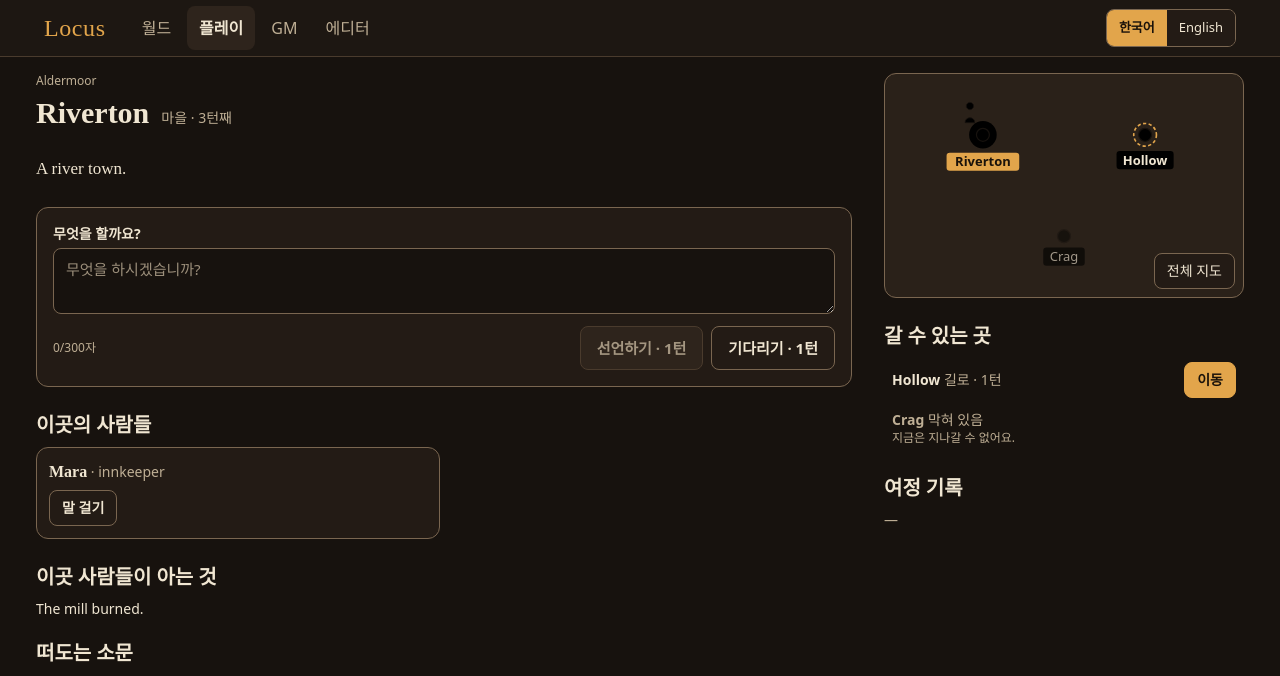
it: code review 01: the talk and focus › #19: the people's counts are read again after a turn, and a line that lands after closing counts
Click the button with test id "npc-n1-talk-btn" at (83, 508), box [49,490,117,526]
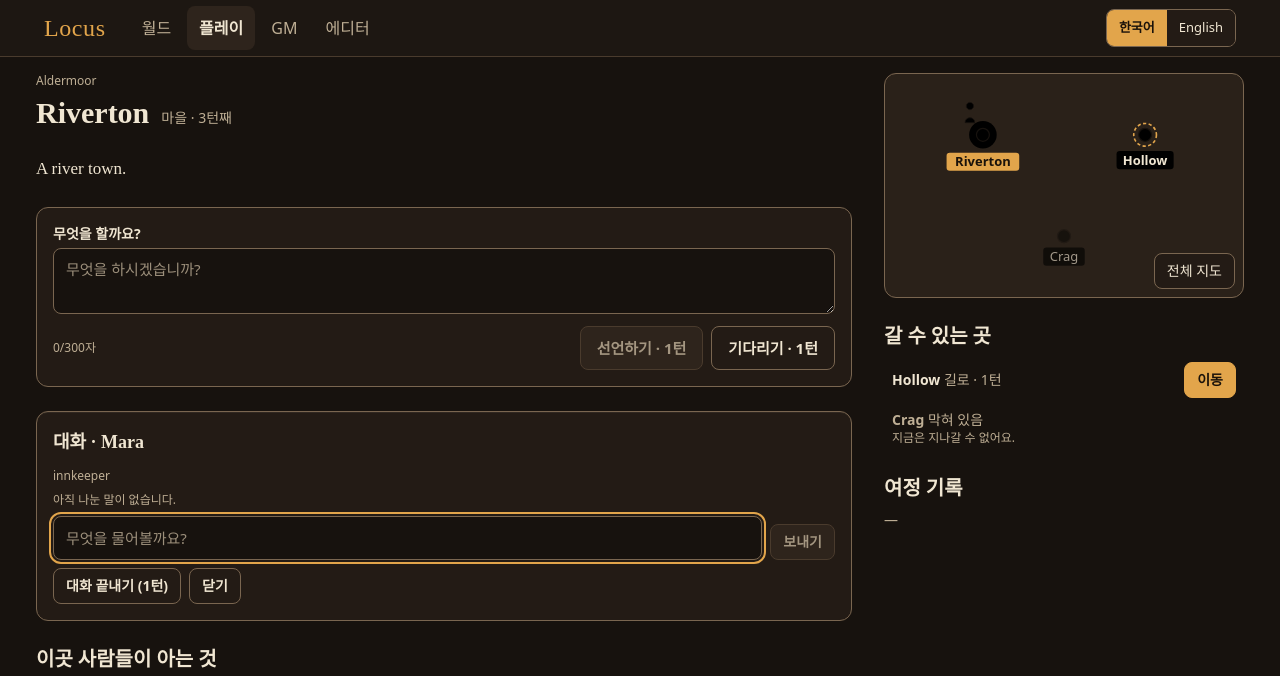
Check: the field with test id "dialogue-input" is enabled
Type "hello" into the field with test id "dialogue-input" at (408, 538), box [53,516,762,560]
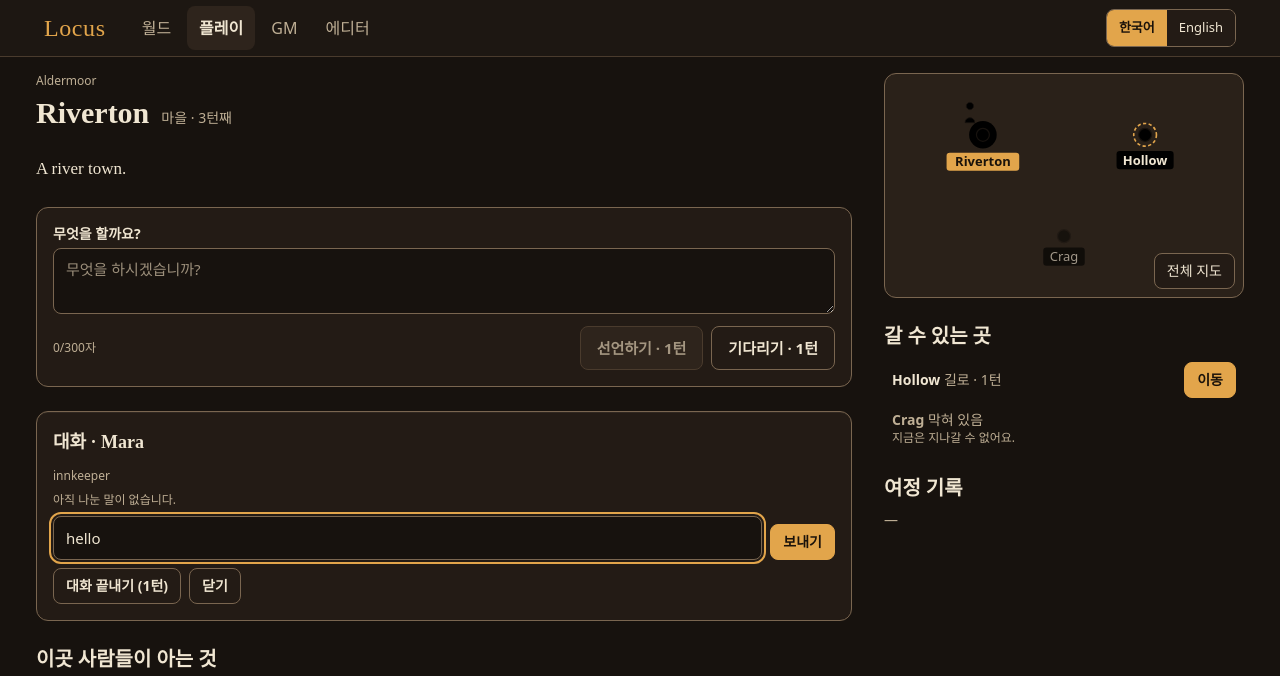
Click the button with test id "dialogue-send-btn" at (803, 542), box [770,524,835,560]
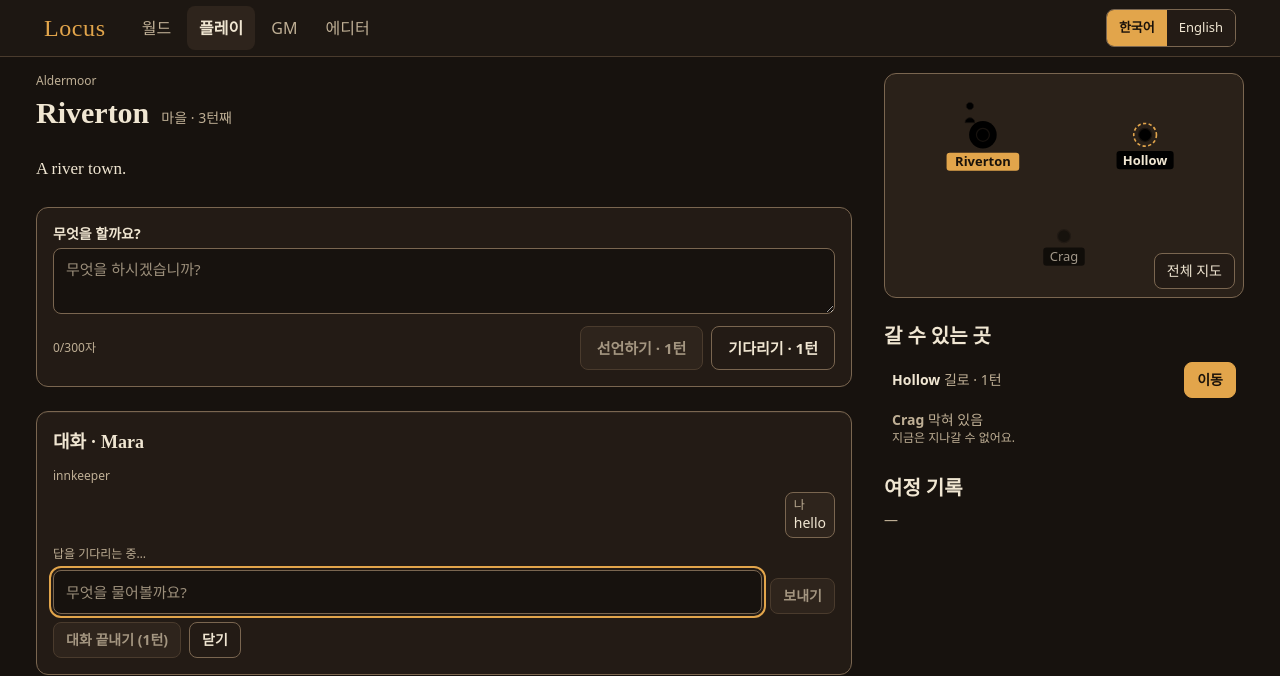
Click the button with test id "dialogue-close-btn" at (215, 640), box [189,622,241,658]
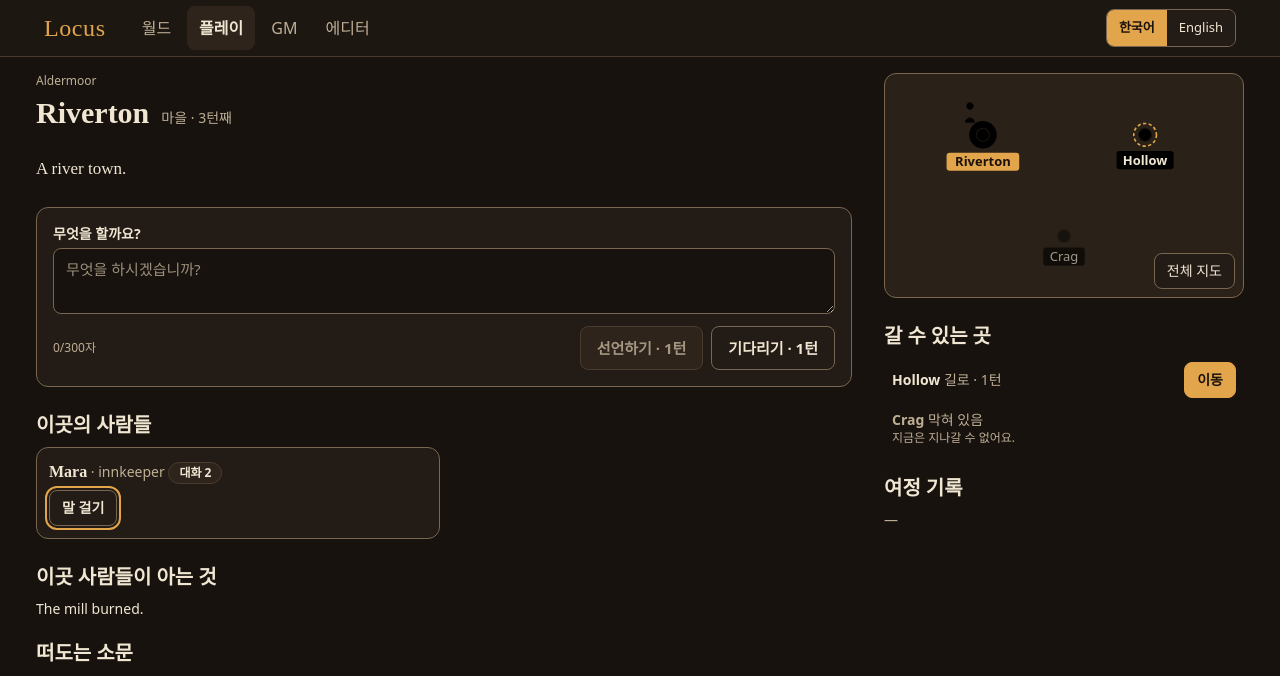
Click the button with test id "wait-btn" at (773, 348), box [711,326,835,370]
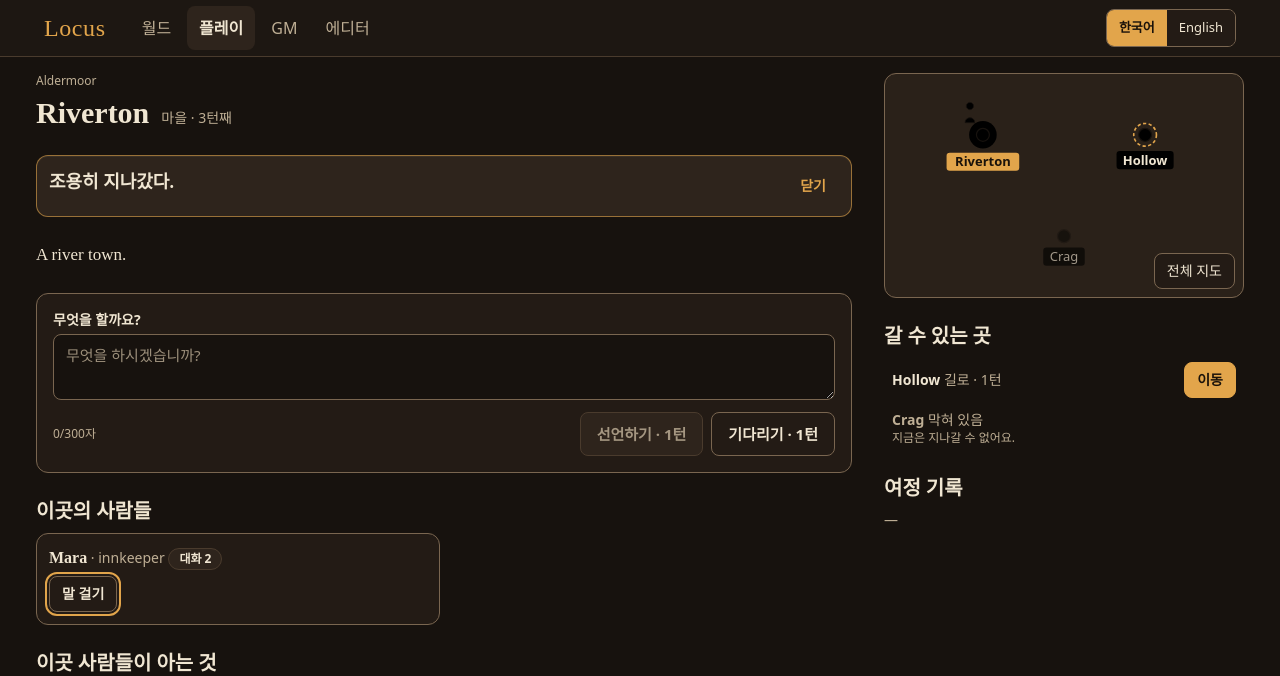
Check: the message "조용히 지나갔다. 닫기" is shown, box [36,155,852,217]
